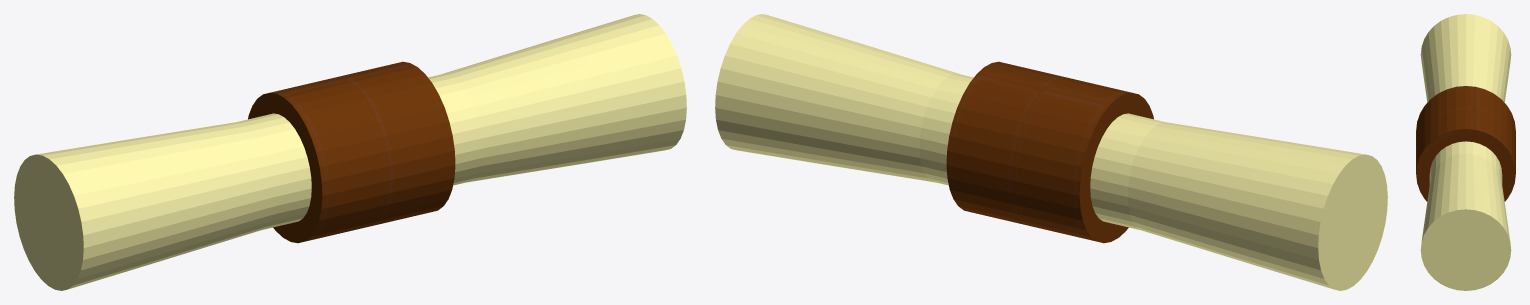
File: JBayer_Scroll.fbx
3 renders of one model, left to right at view 1: azimuth 30°, elevation 25°; view 2: azimuth 150°, elevation 25°; view 3: azimuth 270°, elevation 25°, orthographic. The views are drawn at different scales.
Visible parts, largest first — view 1: Cylinder; view 2: Cylinder; view 3: Cylinder.
Boxes of the visible parts, x1,y1,x2,y2 form: Cylinder: (14, 14, 686, 290); Cylinder: (715, 14, 1387, 290); Cylinder: (1416, 14, 1515, 290).
Size of the model in its own units: 827 by 184 by 182.
1 material, 1 textured.
